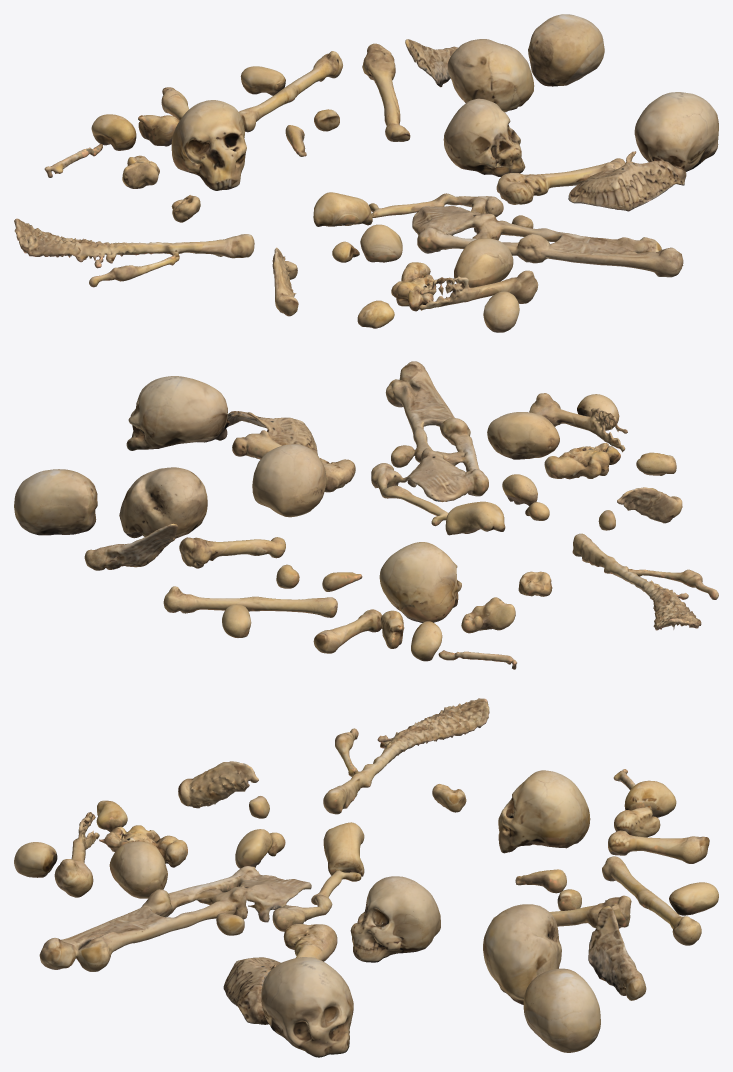
File: Scattered_human_bones_0723232108_texture.fbx
3 views of the same model, one above another, from view 1: azimuth 30°, elevation 25°; view 2: azimuth 150°, elevation 25°; view 3: azimuth 270°, elevation 25° (orthographic). The views are drawn at different scales.
Parts seen in each view (by area): view 1: input; view 2: input; view 3: input.
Boxes of the visible parts, x1,y1,x2,y2 form: input: (14, 14, 718, 332); input: (14, 361, 718, 669); input: (14, 698, 718, 1057).
Bounding box in the file's own units: 197 × 22.91 × 174.
Materials: 1 (1 with a texture image).
